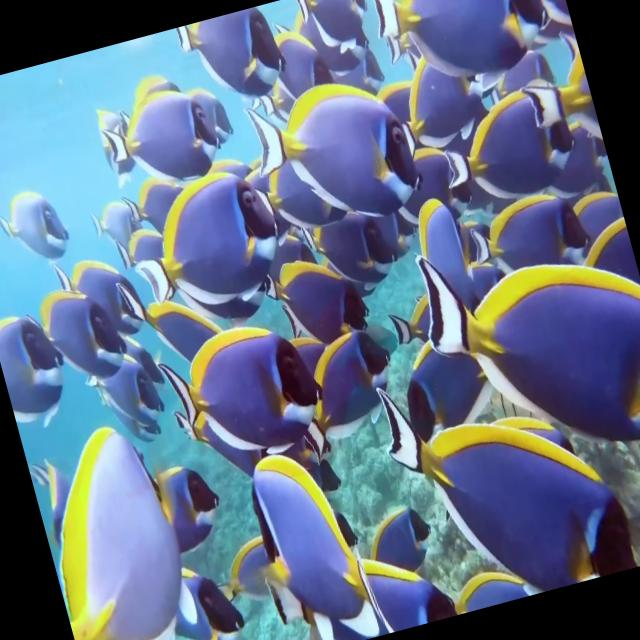fish: (363, 314, 640, 622), (400, 194, 640, 505), (21, 404, 227, 640), (238, 58, 438, 250), (110, 148, 302, 348), (152, 298, 342, 487), (414, 72, 587, 226), (238, 436, 382, 621), (12, 248, 137, 412), (94, 70, 244, 200), (247, 212, 377, 362), (359, 0, 565, 92), (327, 484, 447, 640), (290, 306, 412, 454), (449, 176, 596, 296), (48, 222, 153, 356), (172, 3, 292, 118), (0, 278, 79, 439), (0, 152, 77, 285), (148, 446, 236, 560), (90, 326, 175, 442), (160, 550, 251, 640), (256, 2, 336, 98), (86, 182, 162, 264), (294, 0, 378, 51)
